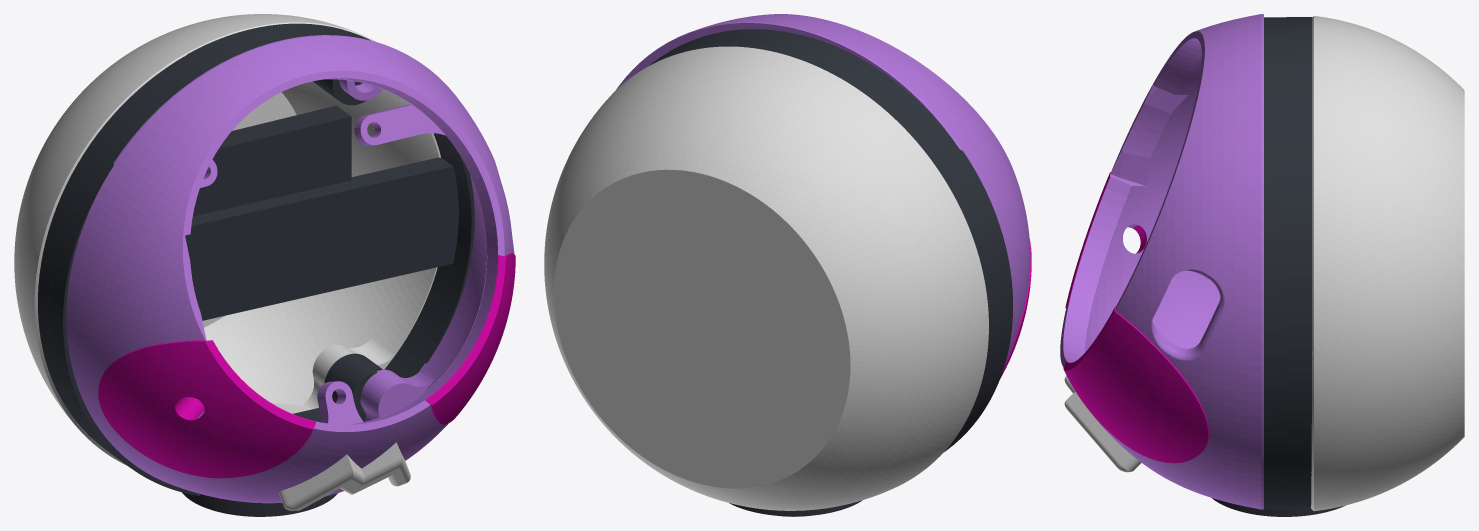
The model's file is poketama-master-battery.glb.
3 views of the same model, side by side, from view 1: azimuth 30°, elevation 25°; view 2: azimuth 150°, elevation 25°; view 3: azimuth 270°, elevation 25° (orthographic).
Bounding box in the file's own units: 1.93 × 2 × 1.56.
